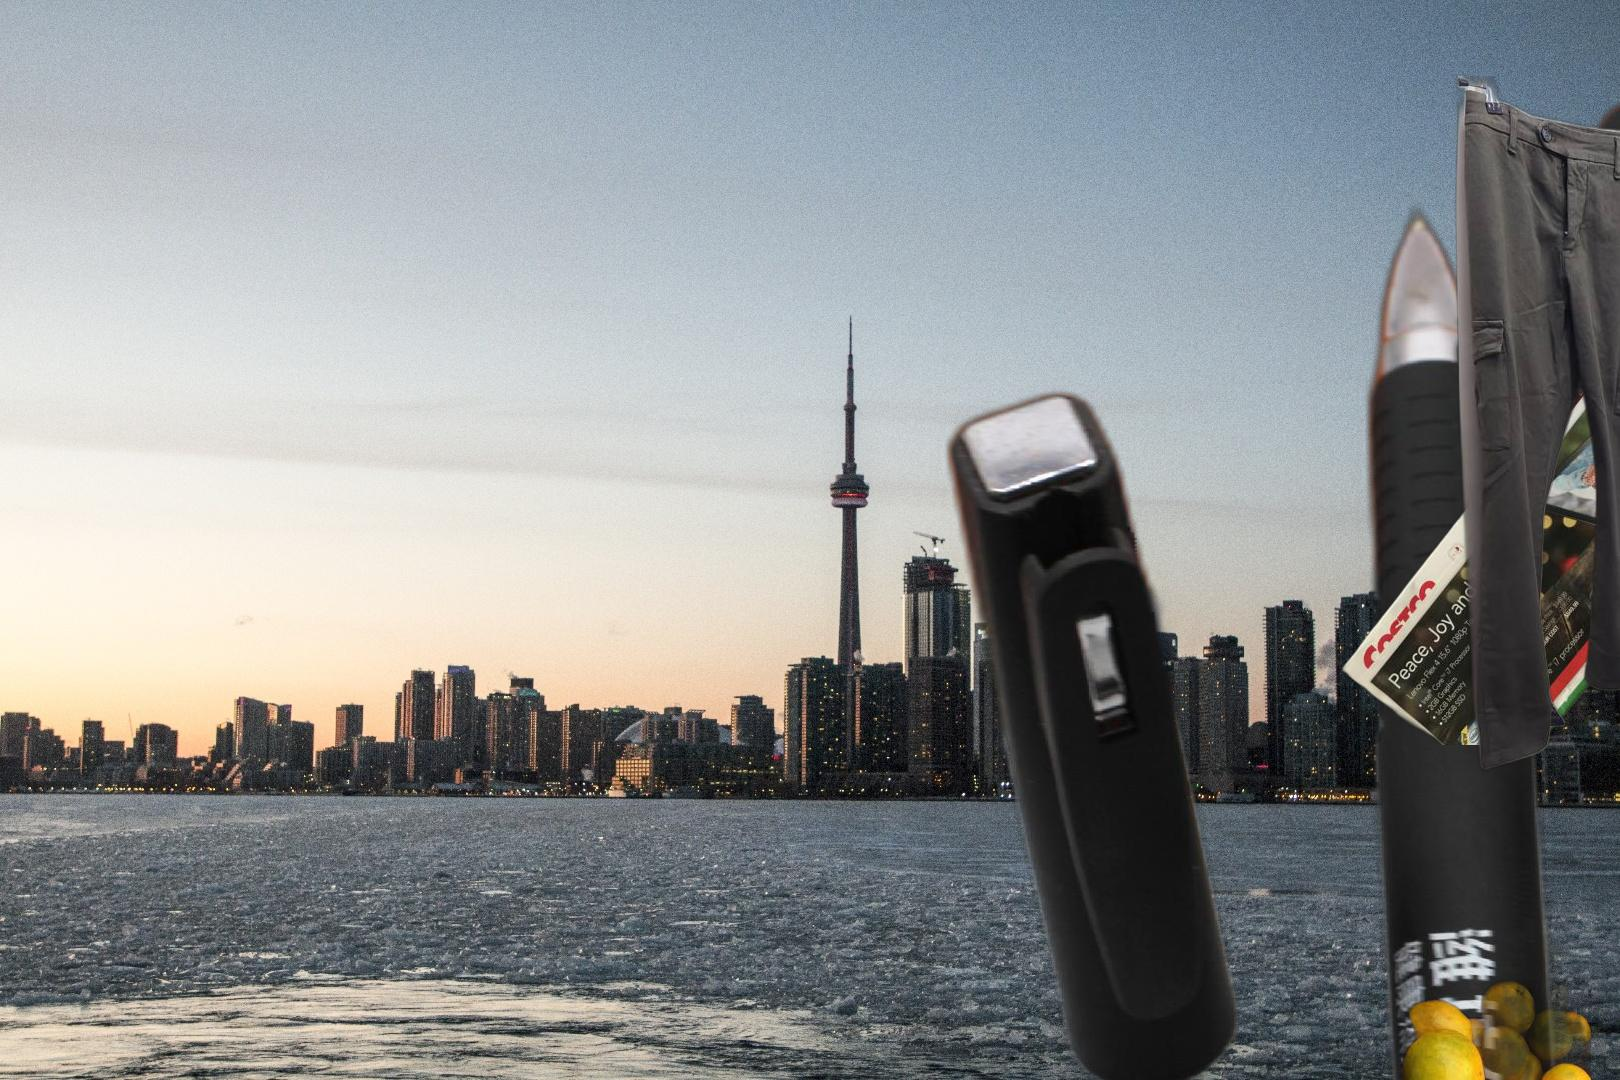biological: (1397, 933, 1591, 1080)
clothes: (1449, 76, 1620, 776)
paper: (1337, 360, 1620, 745)
penholder: (577, 83, 1620, 1080)
shoes: (1569, 219, 1620, 351)
